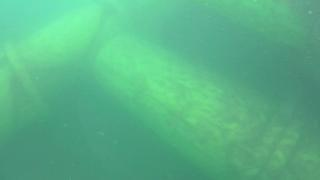pipe: (95, 31, 320, 180), (1, 2, 125, 135), (191, 1, 320, 50)
